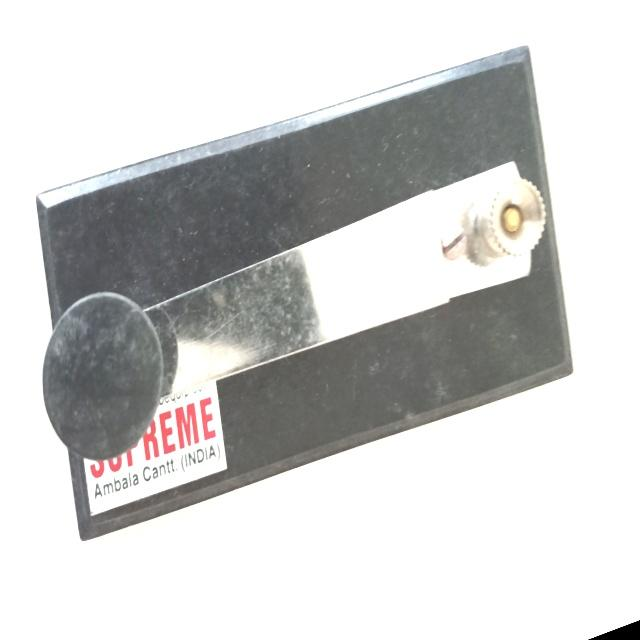Press Key: (9, 7, 602, 585)
